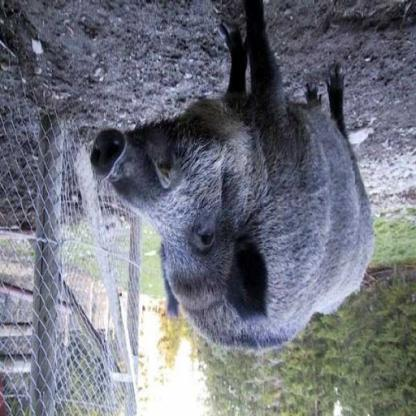boar: (85, 1, 398, 370)
